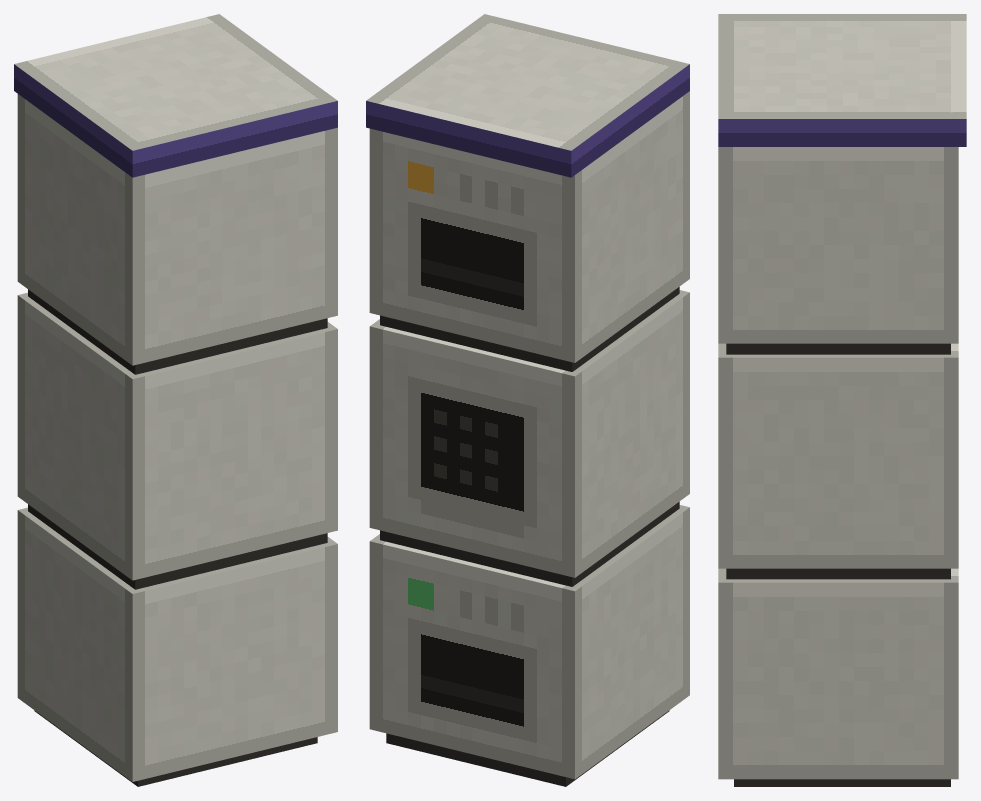
The model's file is era5_data_processor.obj.
The picture shows the model from 3 angles, left to right: view 1: azimuth 30°, elevation 25°; view 2: azimuth 150°, elevation 25°; view 3: azimuth 270°, elevation 25°; orthographic projection. The views are drawn at different scales.
Parts seen in each view (by area): view 1: era5_data_processor; view 2: era5_data_processor; view 3: era5_data_processor.
Boxes of the visible parts, <box> form: era5_data_processor: <box>14,14,337,786</box>; era5_data_processor: <box>366,14,689,786</box>; era5_data_processor: <box>718,14,966,786</box>.
Bounding box in the file's own units: 1 × 3 × 1.
